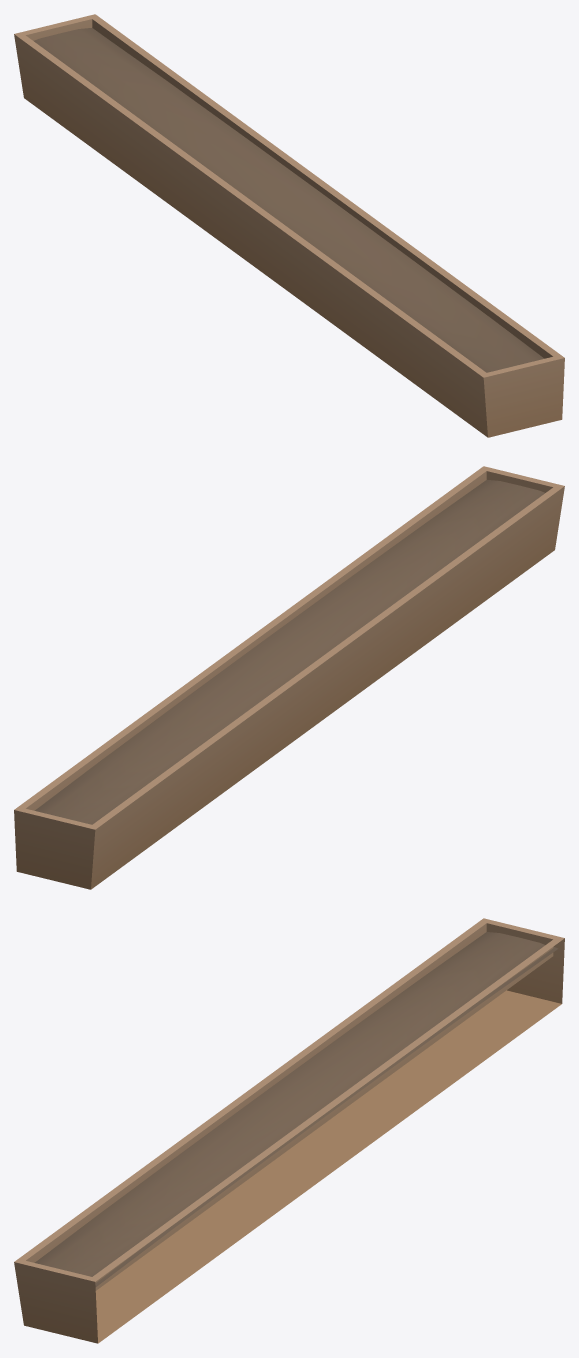
Rendered from SM_BambooPot.fbx.
3 views of the same model, one above another, from view 1: azimuth 30°, elevation 25°; view 2: azimuth 150°, elevation 25°; view 3: azimuth 330°, elevation 25° (orthographic).
Parts seen in each view (by area): view 1: Cube.001; view 2: Cube.001; view 3: Cube.001.
Part boxes in pixels (x1=…): Cube.001: x1=14, y1=14, x2=564, y2=437; Cube.001: x1=14, y1=466, x2=564, y2=889; Cube.001: x1=14, y1=918, x2=564, y2=1343.
Size of the model in its own units: 40 by 30 by 400.
